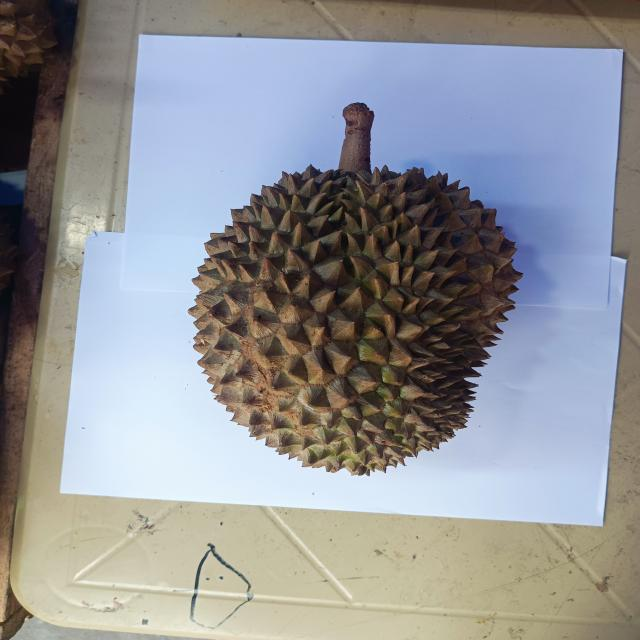mature: (189, 103, 521, 476)
